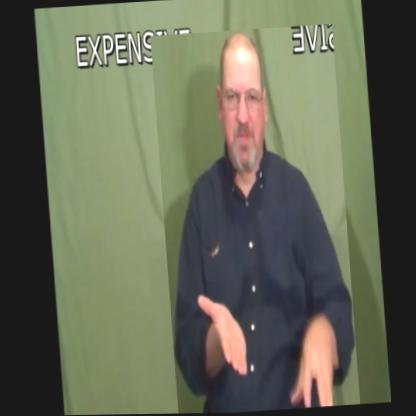Expensive: (149, 24, 358, 414)
